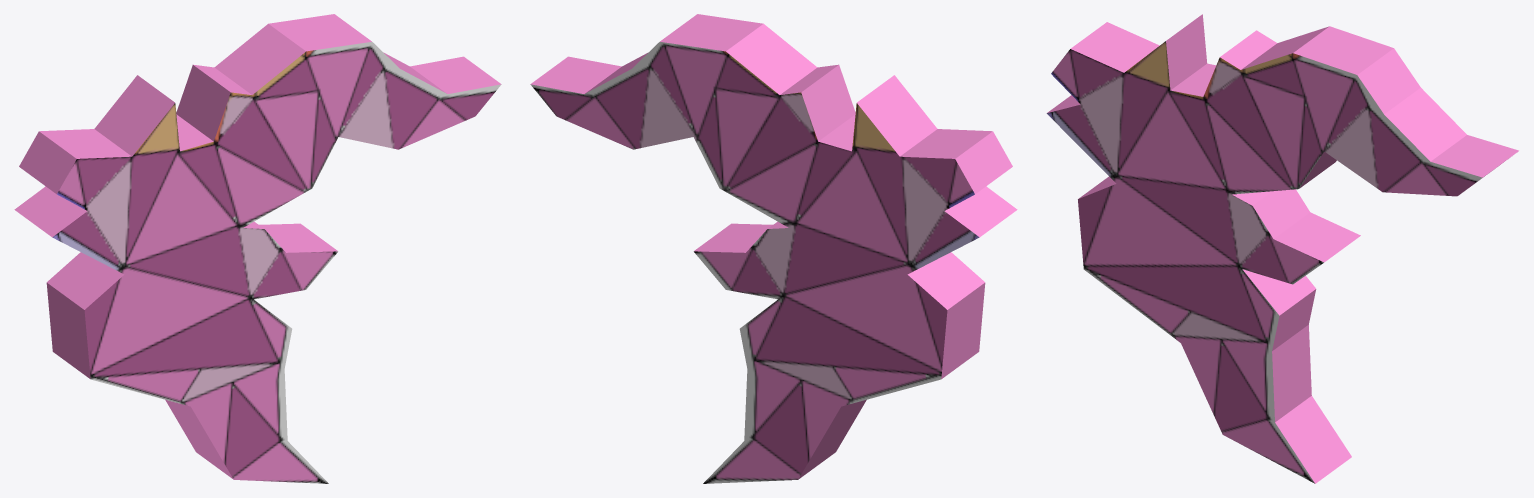
File: bottom right mosaic.FBX
3 views of the same model, side by side, from view 1: azimuth 30°, elevation 25°; view 2: azimuth 150°, elevation 25°; view 3: azimuth 330°, elevation 25° (orthographic). The views are drawn at different scales.
Visible parts, largest first — view 1: Line004; view 2: Line004; view 3: Line004.
Boxes of the visible parts, x1,y1,x2,y2 form: Line004: [14, 14, 501, 483]; Line004: [530, 14, 1017, 483]; Line004: [1046, 14, 1518, 483].
Bounding box in the file's own units: 31.72 × 29.55 × 4.63.
